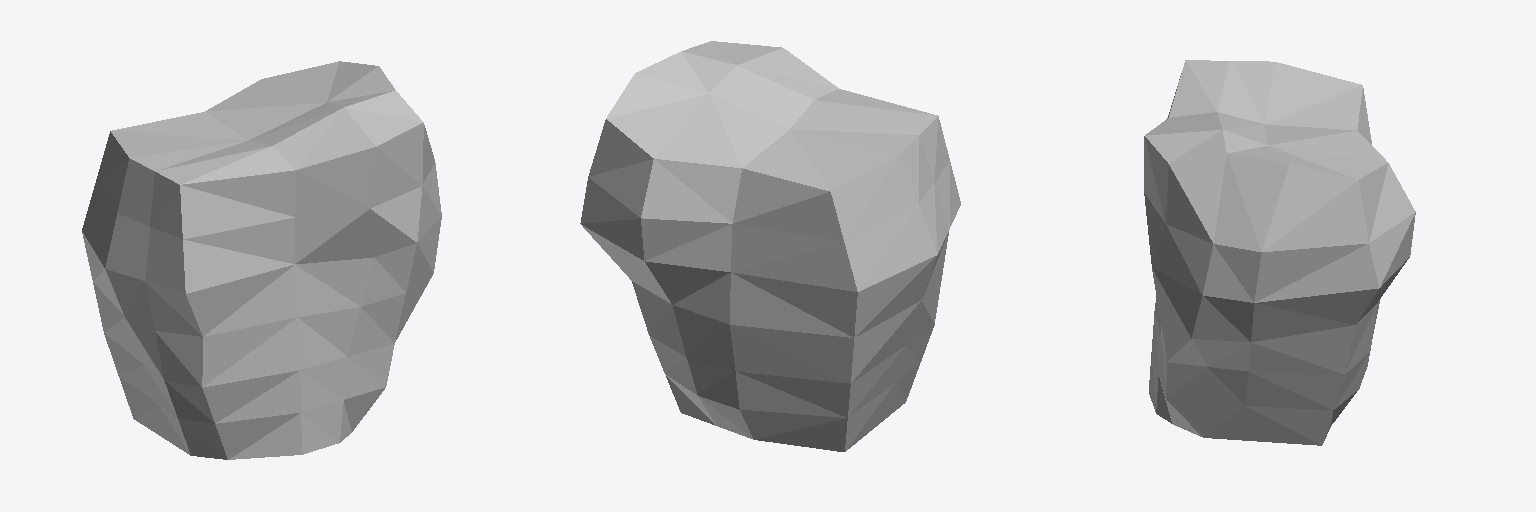
File: float_Body.obj
3 views of the same model, side by side, from view 1: azimuth 30°, elevation 25°; view 2: azimuth 150°, elevation 25°; view 3: azimuth 270°, elevation 25° (orthographic).
Parts seen in each view (by area): view 1: 立方体; view 2: 立方体; view 3: 立方体.
Boxes of the visible parts, box(x1,y1,x2,y2) form: 立方体: box(82, 61, 441, 459); 立方体: box(580, 41, 960, 451); 立方体: box(1144, 60, 1415, 445).
Bounding box in the file's own units: 6.11 × 5.74 × 4.48.